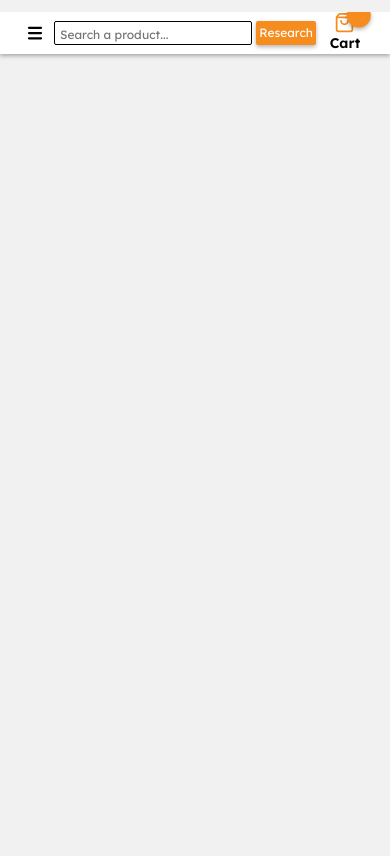
Test: Header component › menu toggle buttons open and close the menu
What coordinates should you click on to do the following:
click the button named "menu opener"
I would click on:
 (35, 33)
Its box is [20,16,50,50].
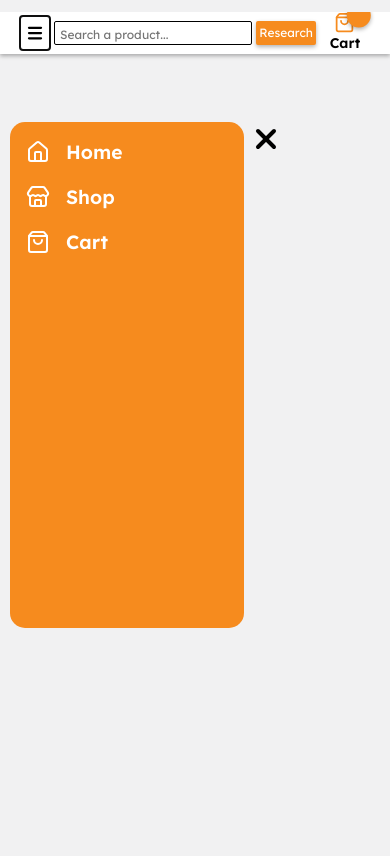
Expected: the element with test id "menu" is shown, [10,122,244,628]
What coordinates should you click on to do the following:
click the button named "close"
I would click on:
 (266, 139)
Its box is [244,122,288,156].
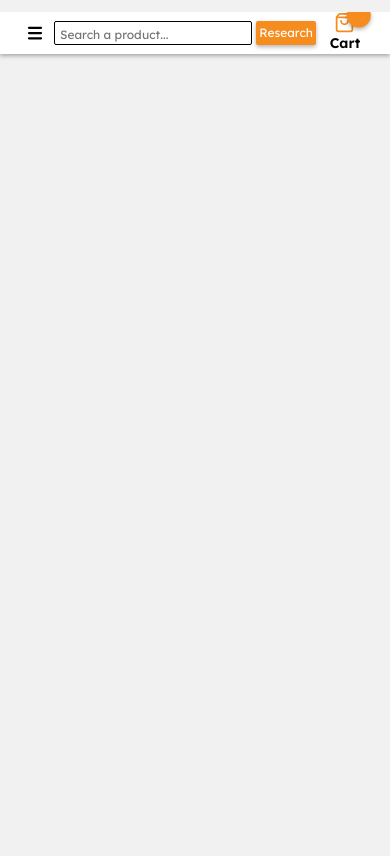
Expected: the element with test id "menu" is gone
